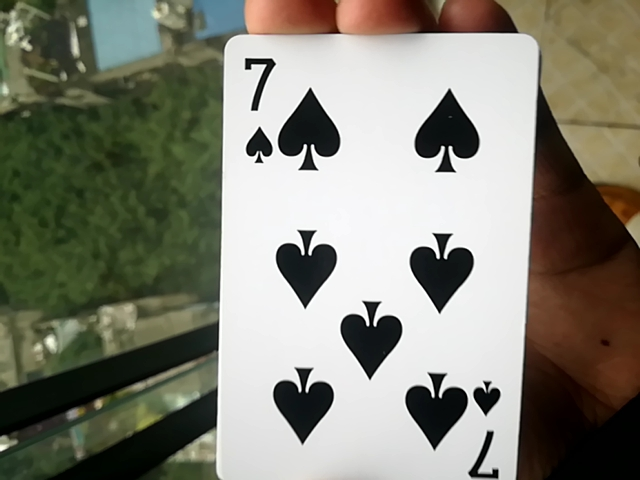ht 7: (203, 15, 531, 480)
